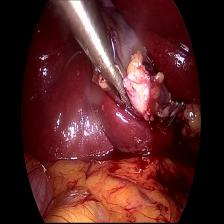Grasper: (86, 11, 143, 121)
